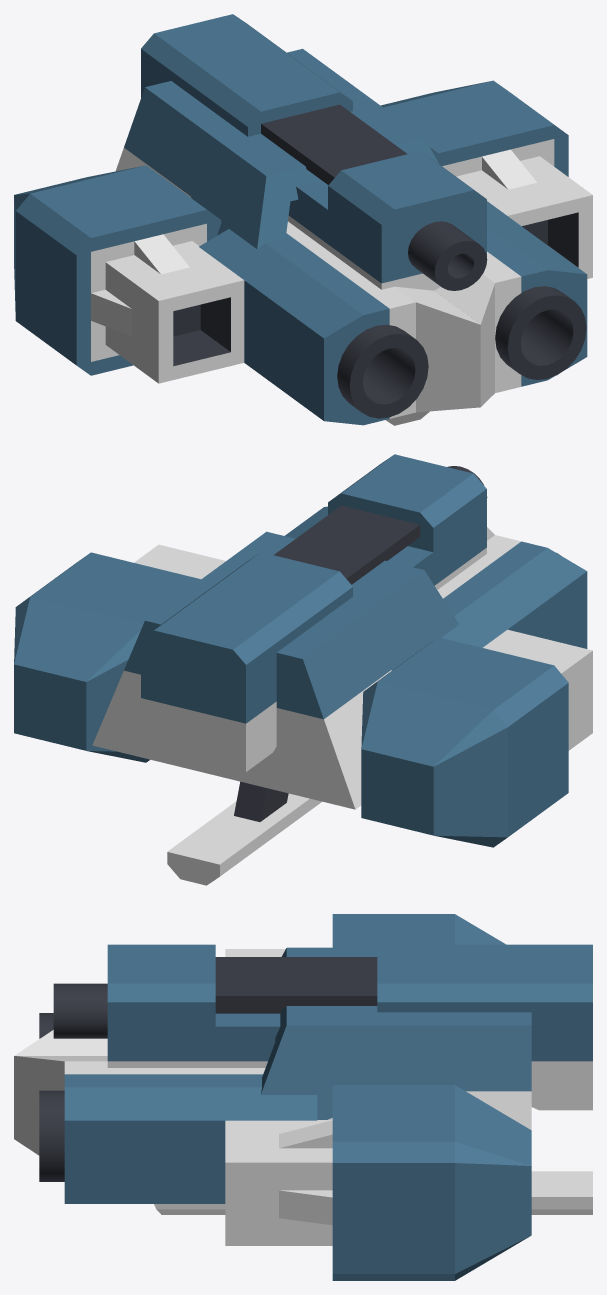
File: flying_01_03.obj
3 views of the same model, one above another, from view 1: azimuth 30°, elevation 25°; view 2: azimuth 150°, elevation 25°; view 3: azimuth 270°, elevation 25° (orthographic).
Visible parts, largest first — view 1: mergedBlocks; view 2: mergedBlocks; view 3: mergedBlocks.
Part boxes in pixels (left/top/right/bottom): mergedBlocks: left=14, top=14, right=592, bottom=425; mergedBlocks: left=14, top=454, right=592, bottom=885; mergedBlocks: left=14, top=914, right=592, bottom=1280.
Size of the model in its own units: 1.87 by 0.88 by 1.89.
